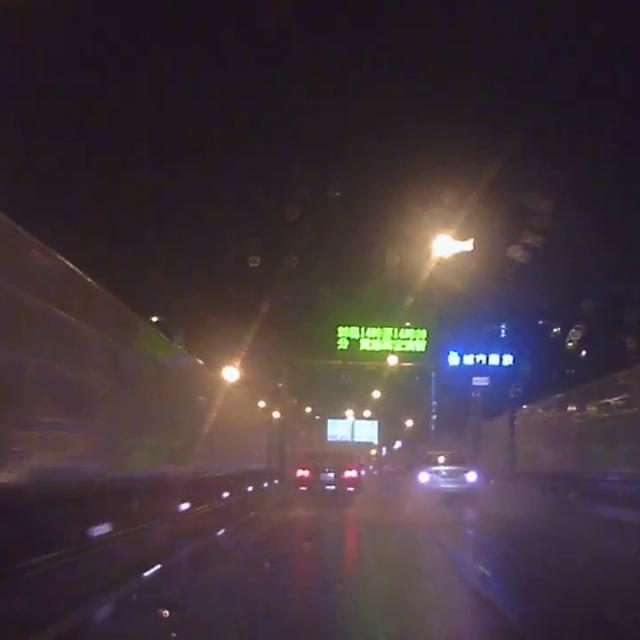Car: (411, 447, 480, 499), (292, 447, 360, 497)
